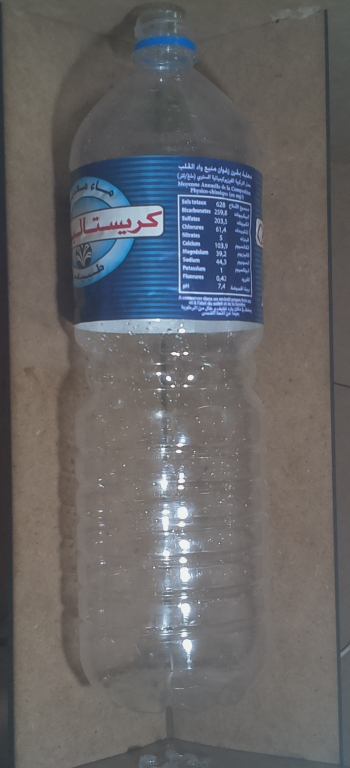Bouteille_2L: (51, 1, 285, 718)
